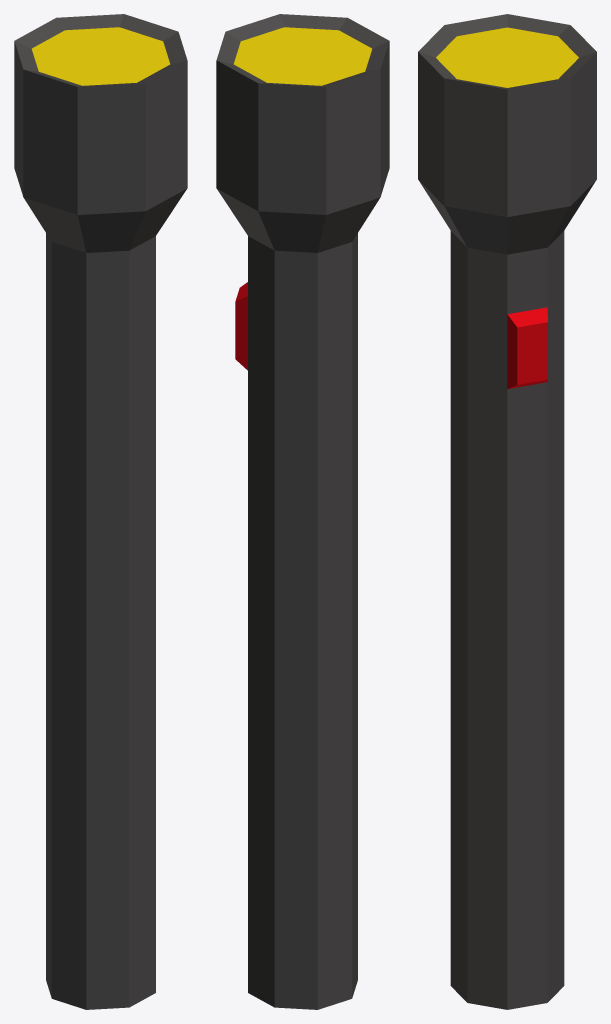
File: Flashlight.fbx
3 views of the same model, side by side, from view 1: azimuth 30°, elevation 25°; view 2: azimuth 150°, elevation 25°; view 3: azimuth 270°, elevation 25° (orthographic).
Parts seen in each view (by area): view 1: Flashlight; view 2: Flashlight; view 3: Flashlight.
Part boxes in pixels (left/top/right/bottom): Flashlight: left=14, top=14, right=187, bottom=1009; Flashlight: left=216, top=14, right=389, bottom=1009; Flashlight: left=418, top=14, right=596, bottom=1009.
Size of the model in its own units: 0.1577 by 0.9093 by 0.1577.
